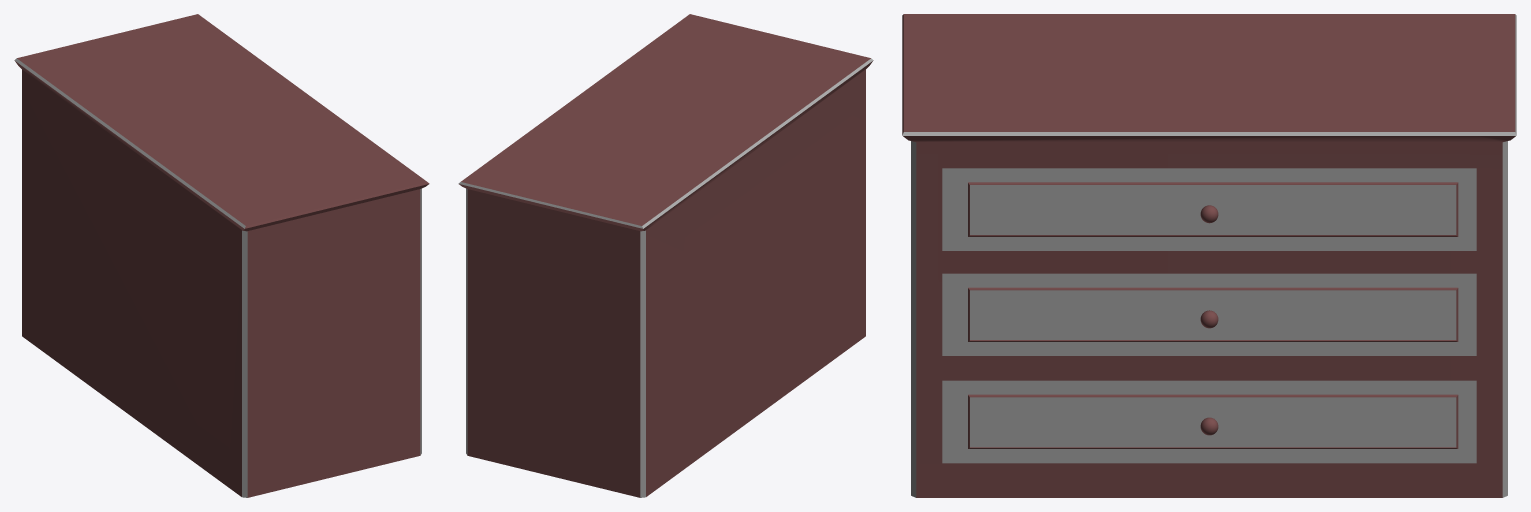
File: dressing_table.fbx
3 renders of one model, left to right at view 1: azimuth 30°, elevation 25°; view 2: azimuth 150°, elevation 25°; view 3: azimuth 270°, elevation 25°, orthographic. The views are drawn at different scales.
Visible parts, largest first — view 1: pCube1; view 2: pCube1; view 3: pCube1, pCube2, pCube5, pCube4, pCube3 (×3).
Boxes of the visible parts, x1,y1,x2,y2 form: pCube1: [14, 14, 429, 497]; pCube1: [458, 14, 873, 497]; pCube1: [902, 14, 1516, 497]; pCube2: [942, 380, 1476, 463]; pCube5: [942, 168, 1476, 250]; pCube4: [942, 273, 1476, 355]; pCube3 (×3): [968, 182, 1458, 448].
Size of the model in its own units: 9.69 by 12.78 by 19.4.
